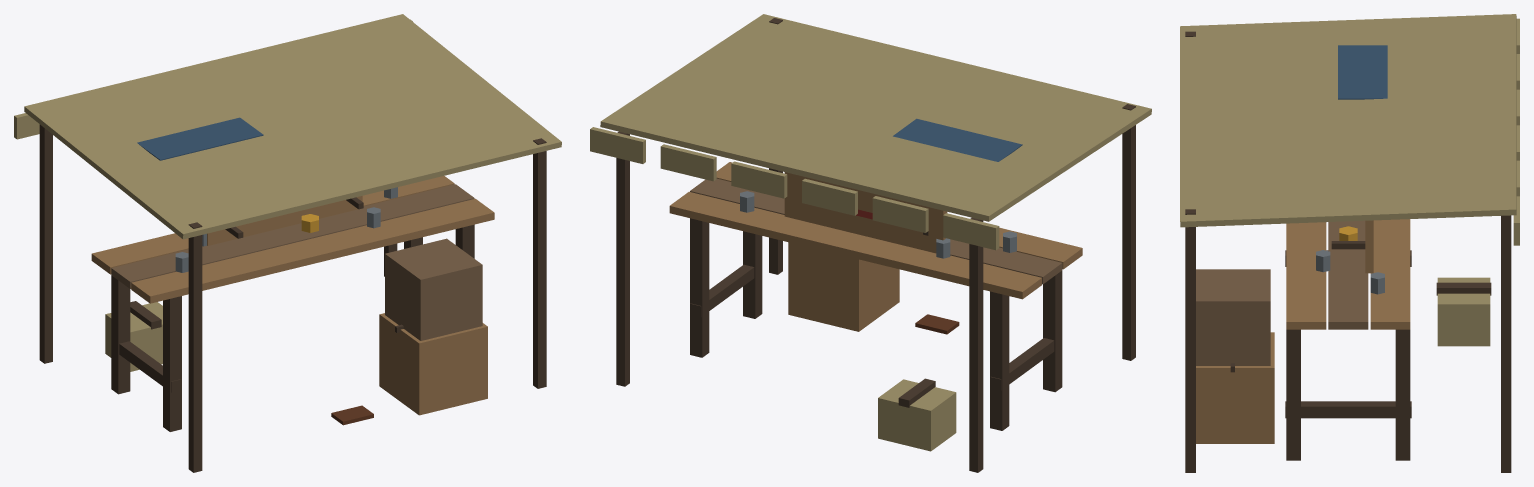
File: rooftop_trader_stall.glb
3 renders of one model, left to right at view 1: azimuth 30°, elevation 25°; view 2: azimuth 150°, elevation 25°; view 3: azimuth 270°, elevation 25°, orthographic. The views are drawn at different scales.
Parts seen in each view (by area): view 1: rooftop_trader_stall; view 2: rooftop_trader_stall; view 3: rooftop_trader_stall.
Boxes of the visible parts, x1,y1,x2,y2 form: rooftop_trader_stall: (14,14,561,472); rooftop_trader_stall: (590,14,1151,472); rooftop_trader_stall: (1180,14,1519,472).
Size of the model in its own units: 2.3 by 1.42 by 1.61.
Materials: 3 (3 with a texture image).
